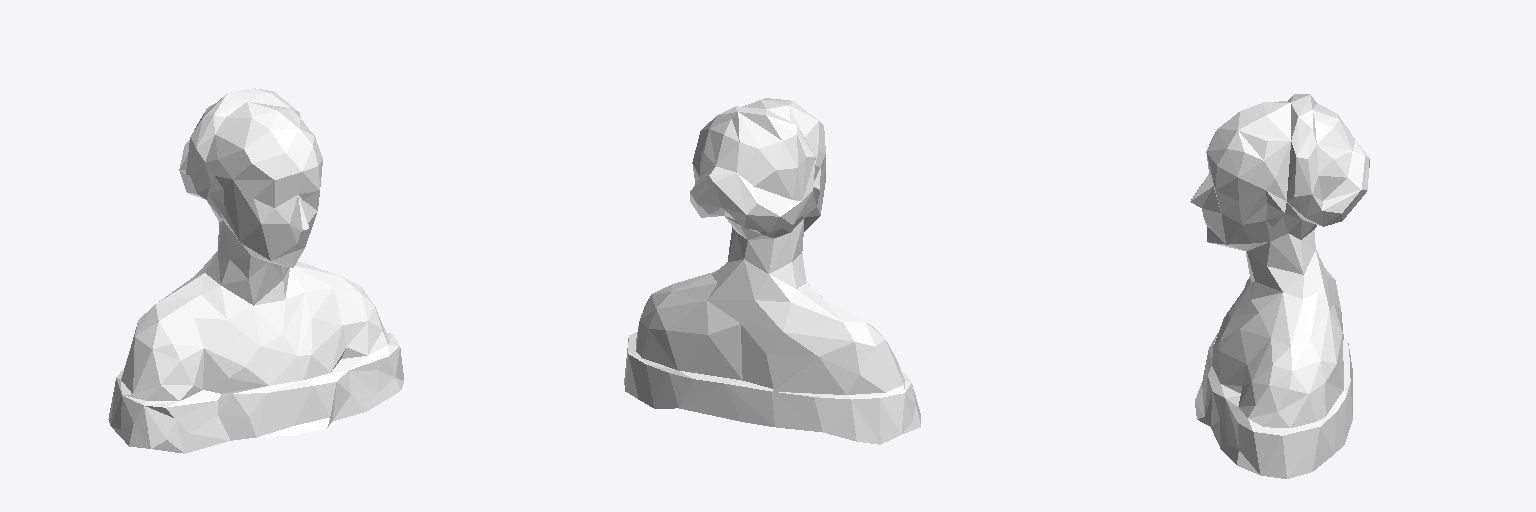
Rendered from laurana500.obj.
3 renders of one model, left to right at view 1: azimuth 30°, elevation 25°; view 2: azimuth 150°, elevation 25°; view 3: azimuth 270°, elevation 25°, orthographic.
Size of the model in its own units: 46.36 by 48.98 by 25.78.